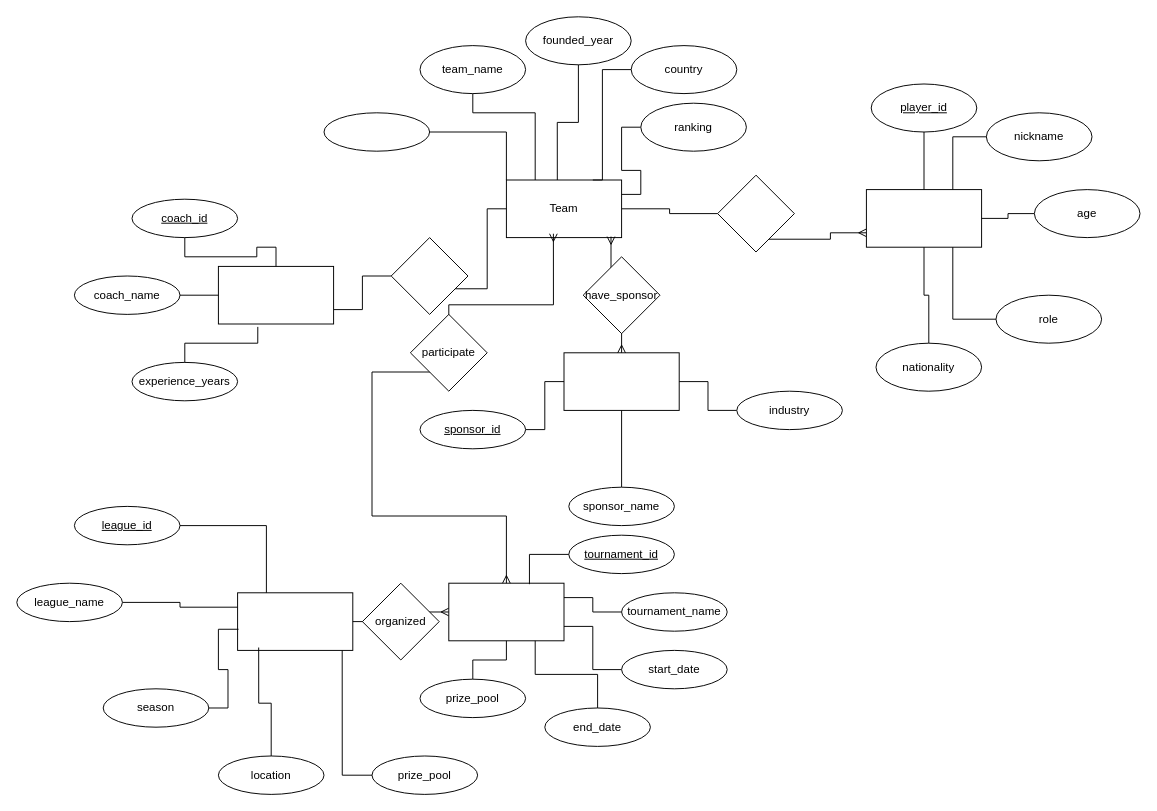
The diagram is 1157 pixels wide and 811 high, and some of its shapes have lost their labels. Each missing label, with the centre of its shape:
belongs_to: [755,213]
coach: [275,294]
Coaches: [429,275]
League: [295,621]
player: [923,218]
Sponsor: [621,381]
team_id: [376,131]
Tournament: [506,611]
